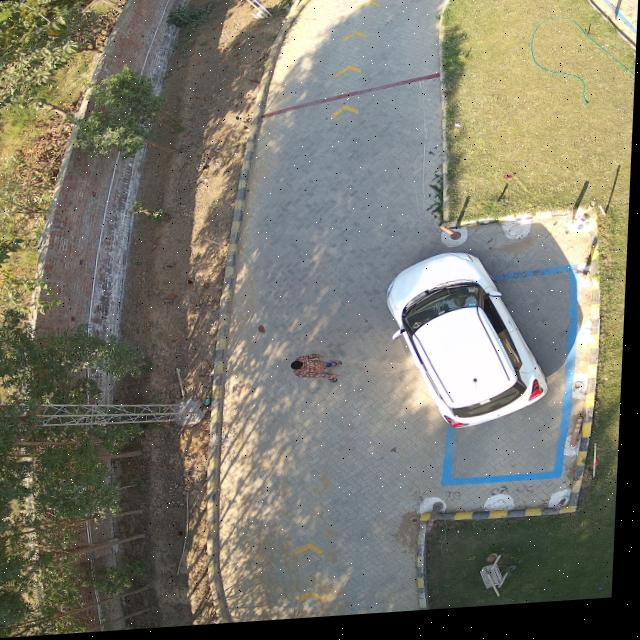car: (390, 258, 552, 434)
